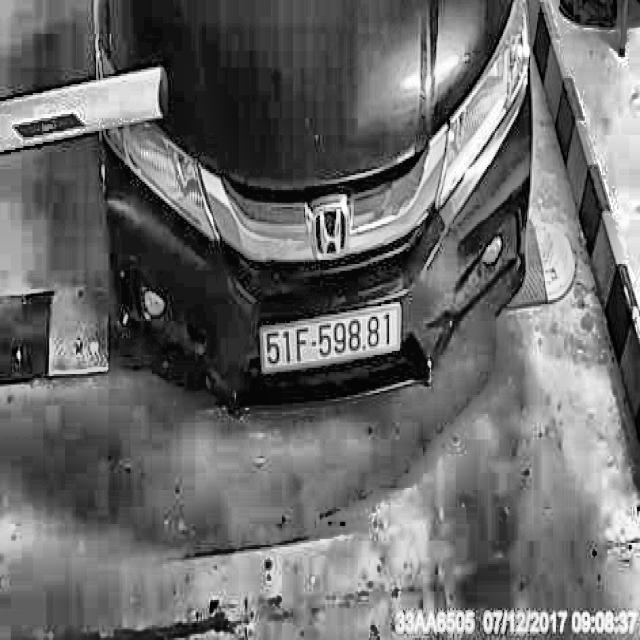plate: (258, 294, 407, 386)
